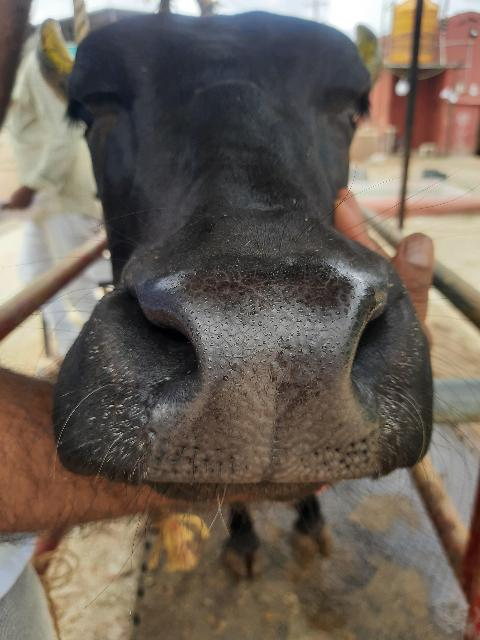Muzzle: (132, 263, 377, 482)
